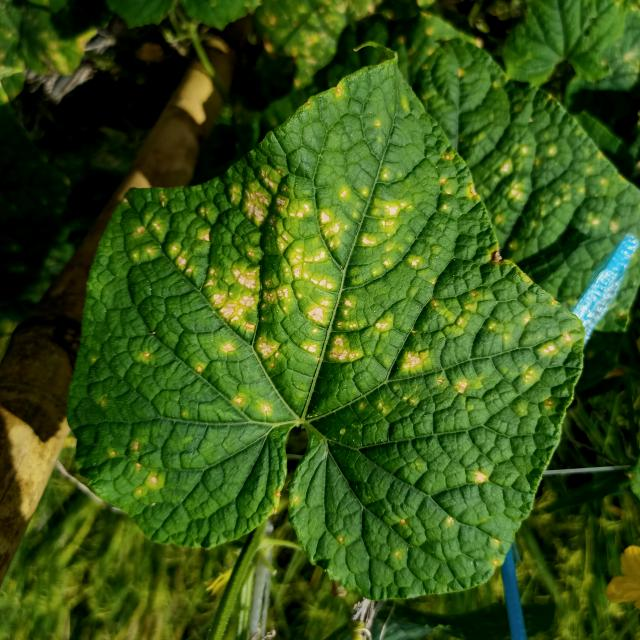disease_cucumber: (91, 126, 564, 551)
